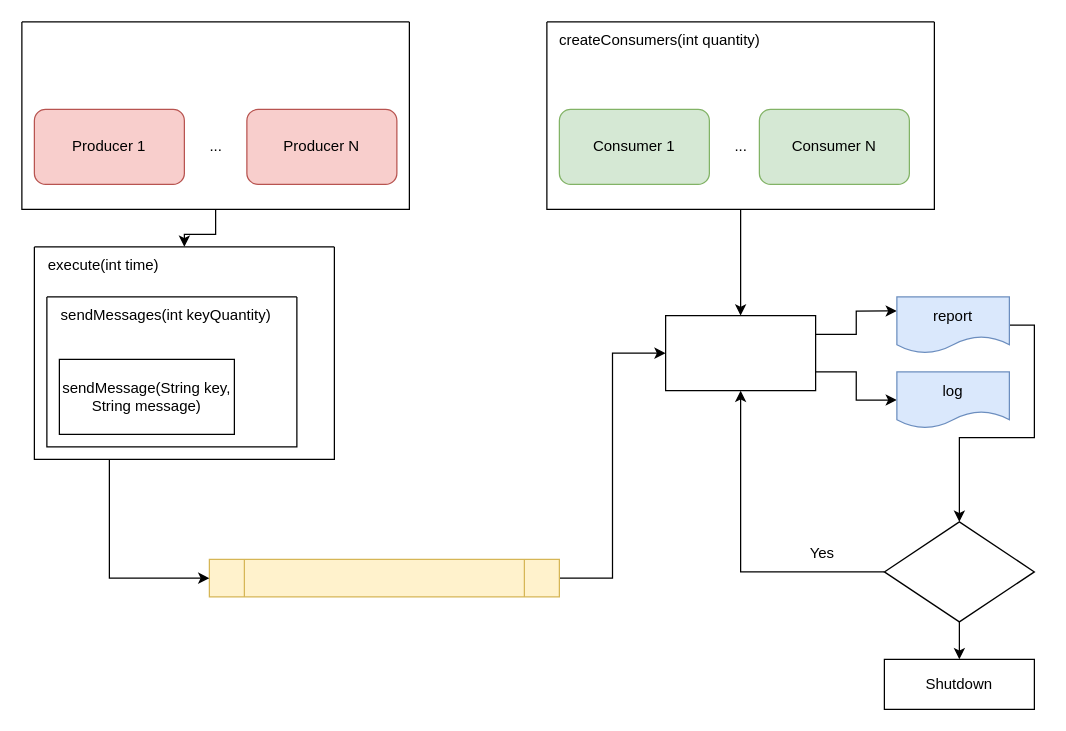
The diagram is 1066 pixels wide and 731 high, and some of its shapes have lost their labels. The centre of each missing label's shape, as x and y in pixels:
"ConsmerAffinity" belongs at [958,571].
"createProducers(int quantity)" belongs at [215,115].
"processMessage()" belongs at [740,352].
"Topíc" belongs at [383,577].
